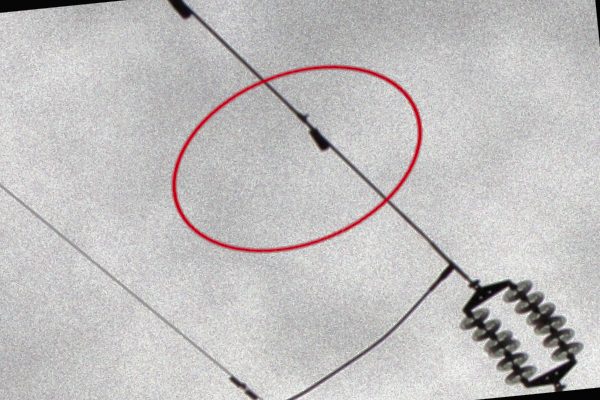damper: (225, 375, 259, 399)
damper_defect: (287, 102, 329, 154)
